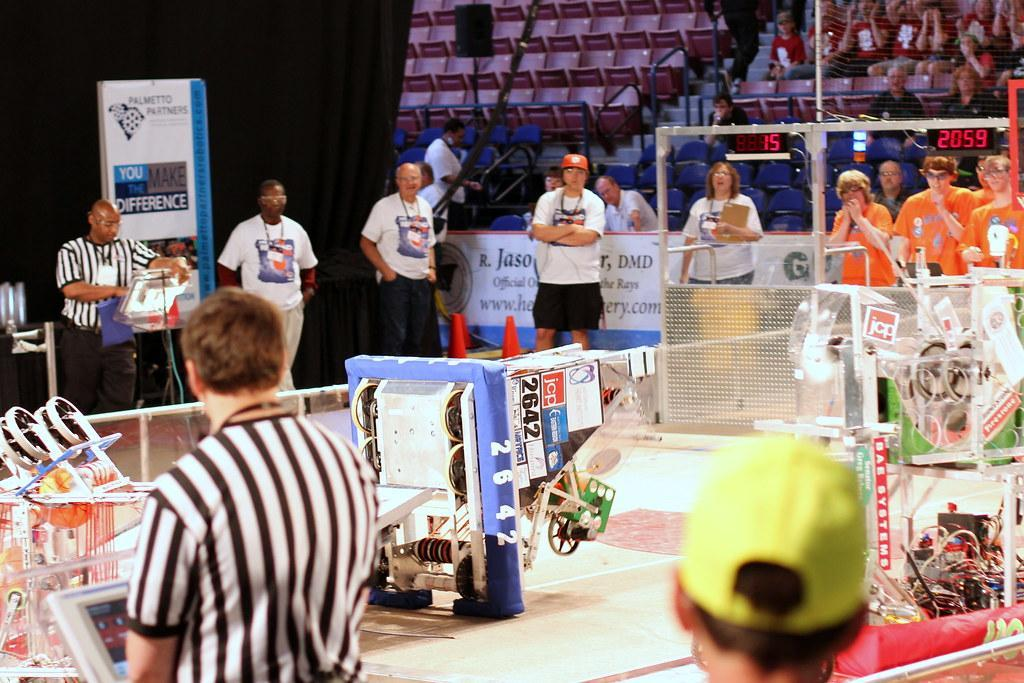robot: (752, 224, 1024, 683), (335, 322, 669, 630), (0, 370, 182, 683)
